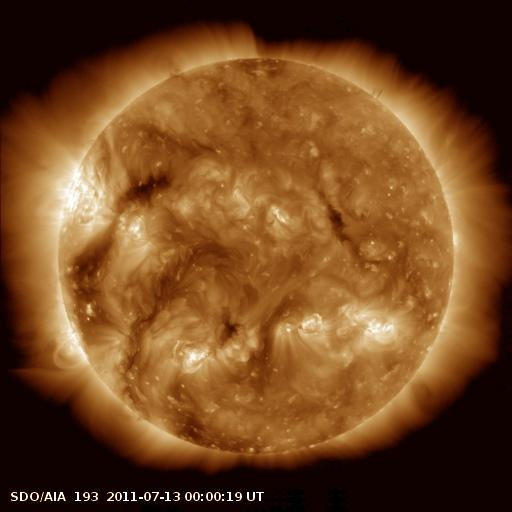coronal_hole: (65, 221, 116, 348), (110, 176, 173, 214)
